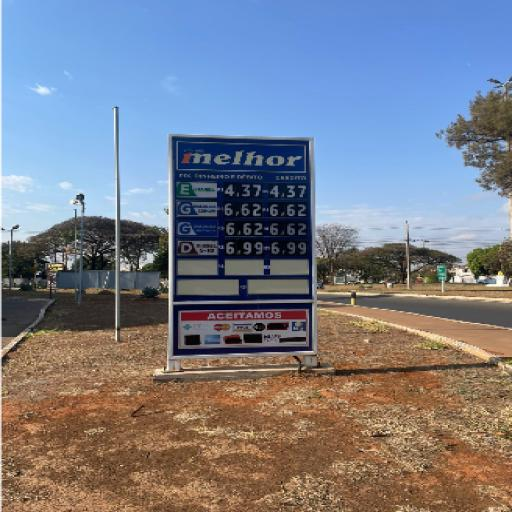ETANOL: (177, 181, 217, 198)
GASOLINA AD: (177, 220, 218, 236)
GASOLINA C: (177, 201, 217, 217)
S10: (176, 241, 218, 256)
placa: (167, 135, 317, 357)
preco: (224, 202, 264, 217), (225, 221, 264, 236), (225, 240, 264, 255), (225, 183, 262, 198)
